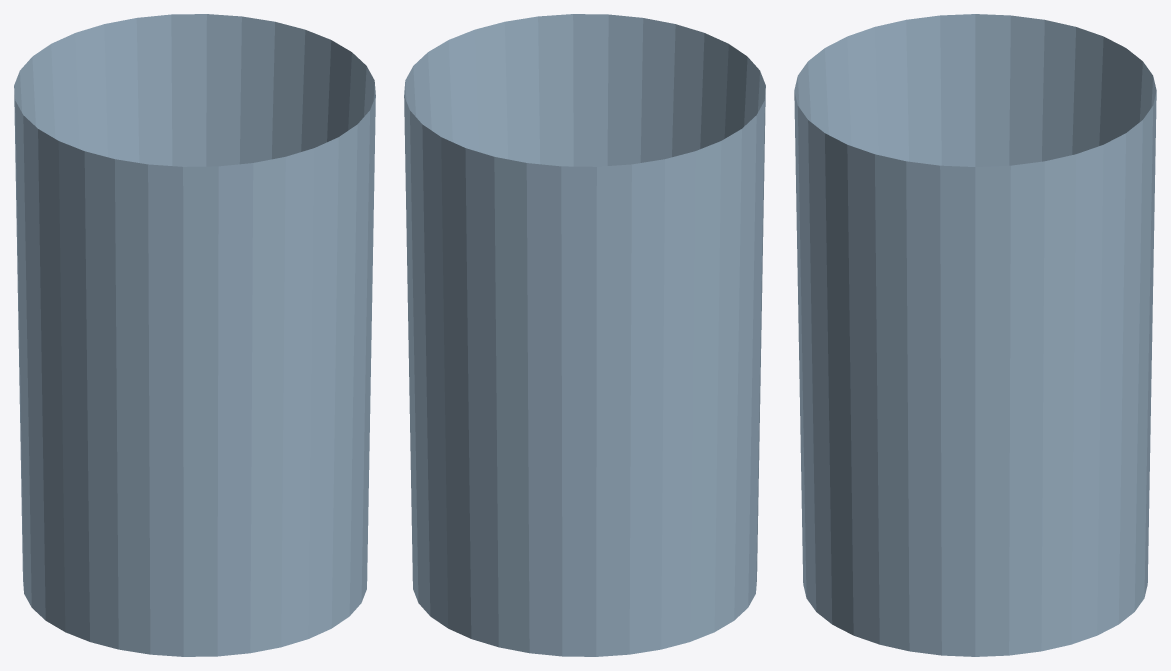
File: TrinkGlas.fbx
The picture shows the model from 3 angles, left to right: view 1: azimuth 30°, elevation 25°; view 2: azimuth 150°, elevation 25°; view 3: azimuth 270°, elevation 25°; orthographic projection.
Visible parts, largest first — view 1: Glass; view 2: Glass; view 3: Glass.
Boxes of the visible parts, x1=… form: Glass: x1=14, y1=14, x2=375, y2=656; Glass: x1=404, y1=14, x2=765, y2=656; Glass: x1=794, y1=14, x2=1156, y2=656.
Size of the model in its own units: 12.13 by 18.24 by 12.13.
